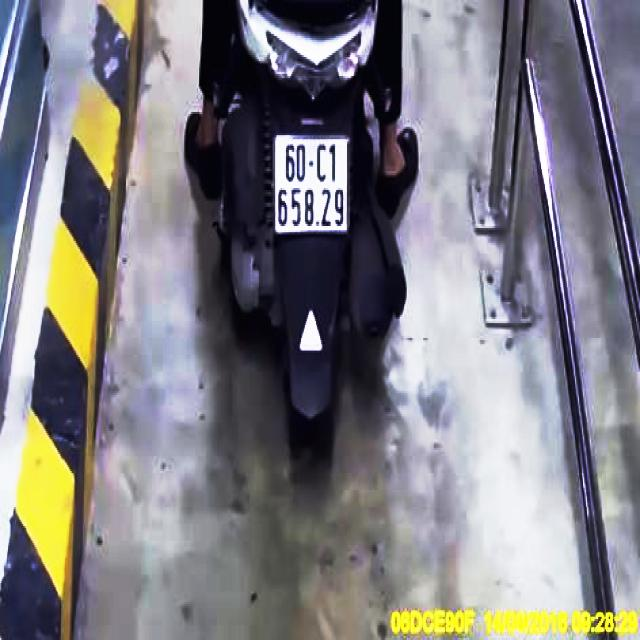license_plate: (276, 135, 351, 235)
